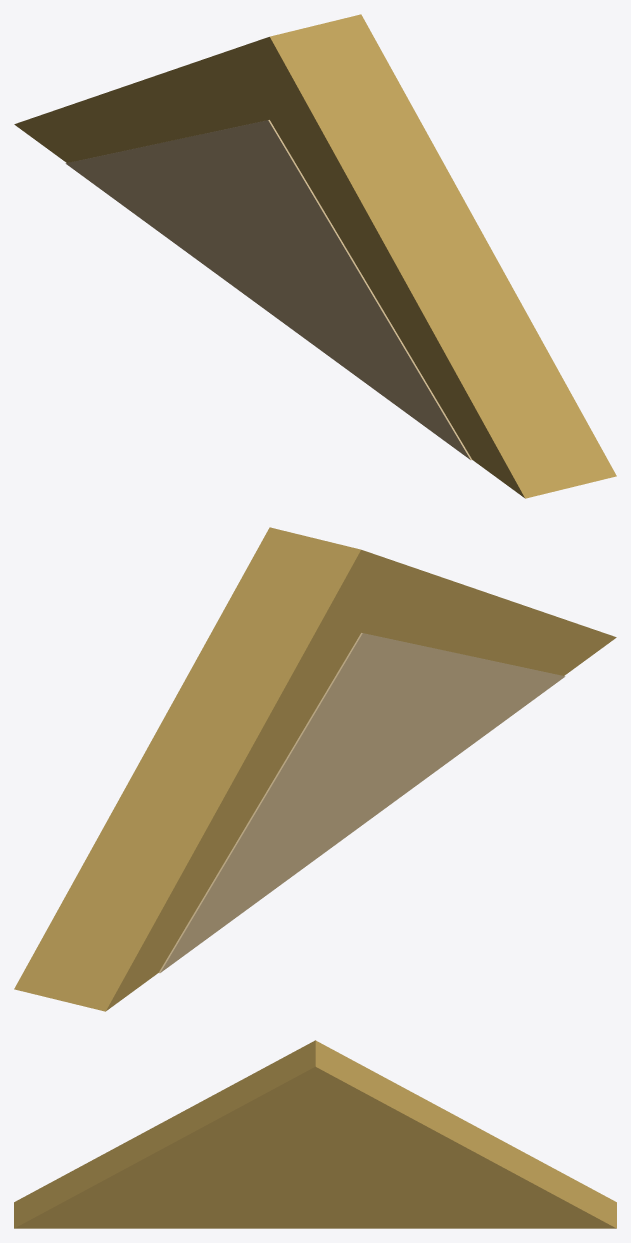
File: hanok_choga_roof_gable_end.glb
The picture shows the model from 3 angles, top to bottom: view 1: azimuth 30°, elevation 25°; view 2: azimuth 150°, elevation 25°; view 3: azimuth 270°, elevation 25°; orthographic projection. The views are drawn at different scales.
Parts seen in each view (by area): view 1: hanok_choga_roof_gable_end; view 2: hanok_choga_roof_gable_end; view 3: hanok_choga_roof_gable_end.
Part boxes in pixels (x1,y1,x2,y2): hanok_choga_roof_gable_end: [14, 14, 616, 498]; hanok_choga_roof_gable_end: [14, 527, 616, 1011]; hanok_choga_roof_gable_end: [14, 1040, 616, 1228].
Size of the model in its own units: 0.61 by 1.72 by 5.8.
